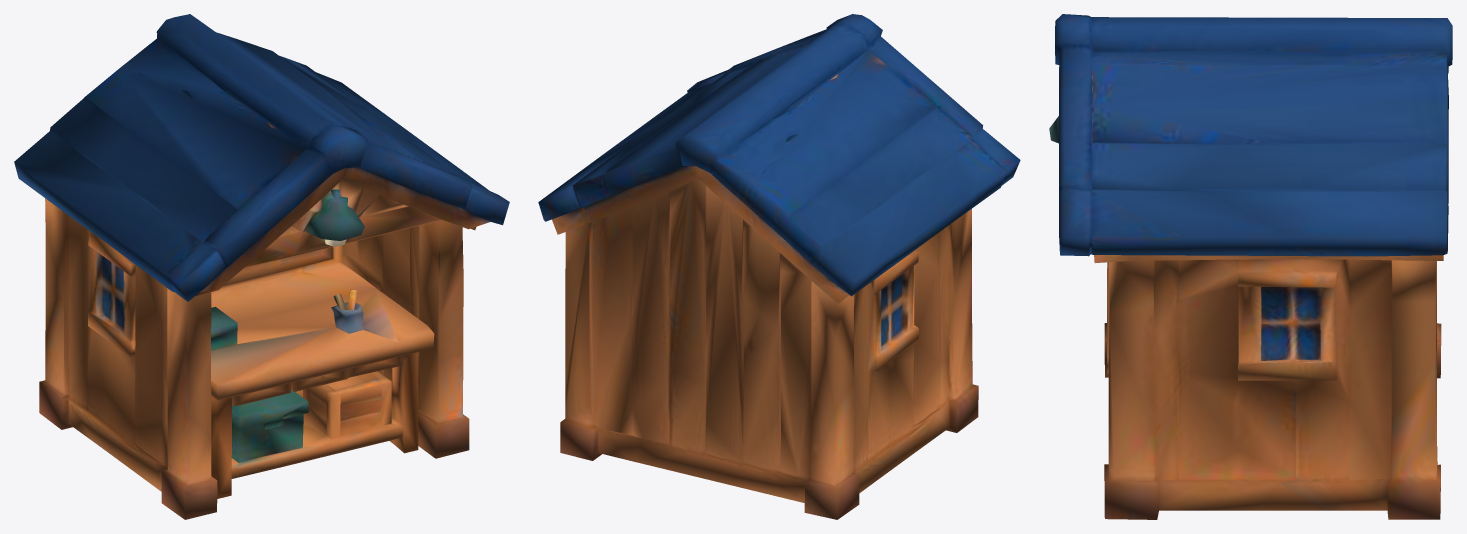
File: workshop.glb
The picture shows the model from 3 angles, left to right: view 1: azimuth 30°, elevation 25°; view 2: azimuth 150°, elevation 25°; view 3: azimuth 270°, elevation 25°; orthographic projection. The views are drawn at different scales.
Parts seen in each view (by area): view 1: model; view 2: model; view 3: model.
Boxes of the visible parts, <box> form: model: <box>14,14,509,519</box>; model: <box>538,14,1020,519</box>; model: <box>1049,14,1452,519</box>.
Size of the model in its own units: 1.8 by 1.9 by 1.65.
Materials: 1 (1 with a texture image).
